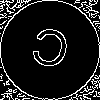C: (25, 25, 73, 80)
